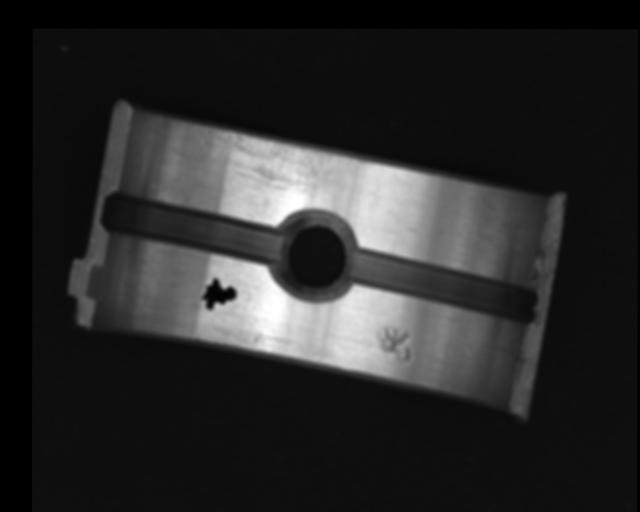blot: (198, 277, 238, 310)
bruise: (375, 326, 412, 363)
gap: (349, 246, 537, 324), (100, 193, 285, 262)
hole: (271, 210, 357, 296)
scratch: (198, 124, 366, 200)
